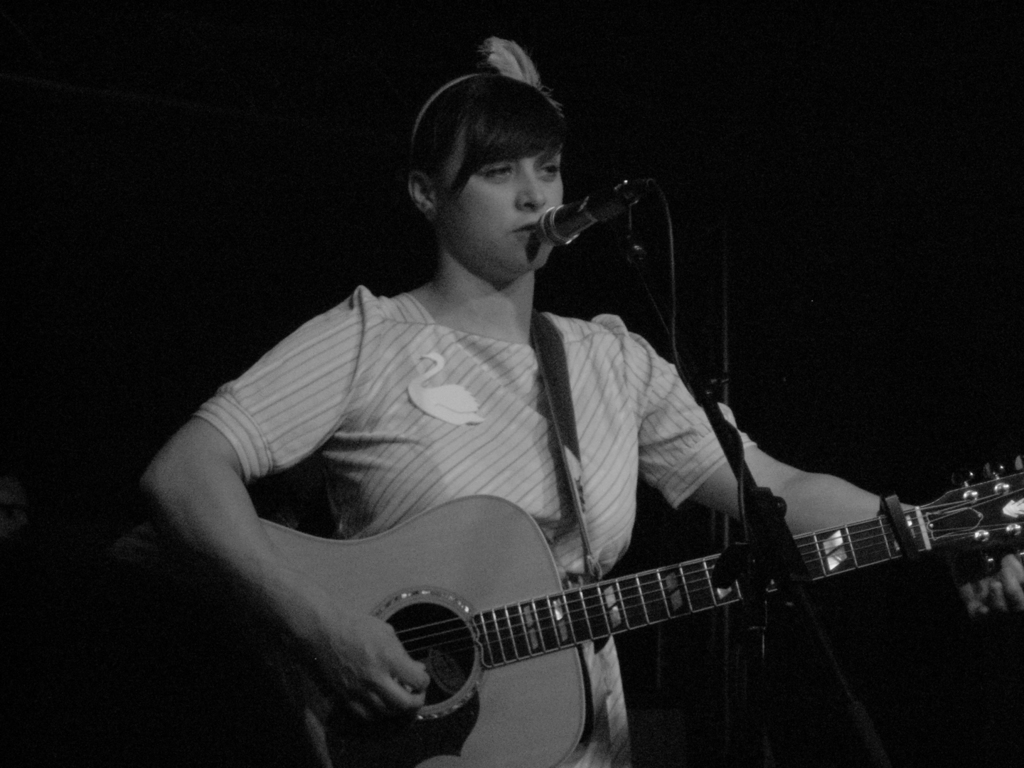Human_hand: (309, 609, 437, 725), (943, 540, 1023, 620)
